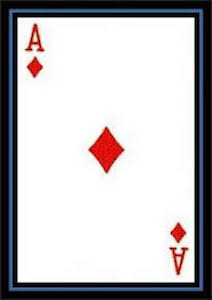AceOfDiamonds: (10, 12, 198, 286)
